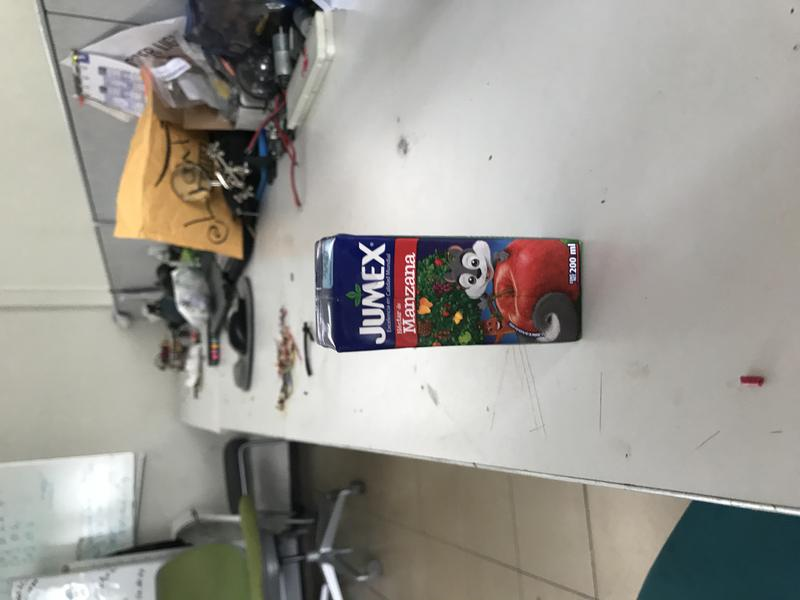jumex_cajita: (315, 235, 584, 354)
